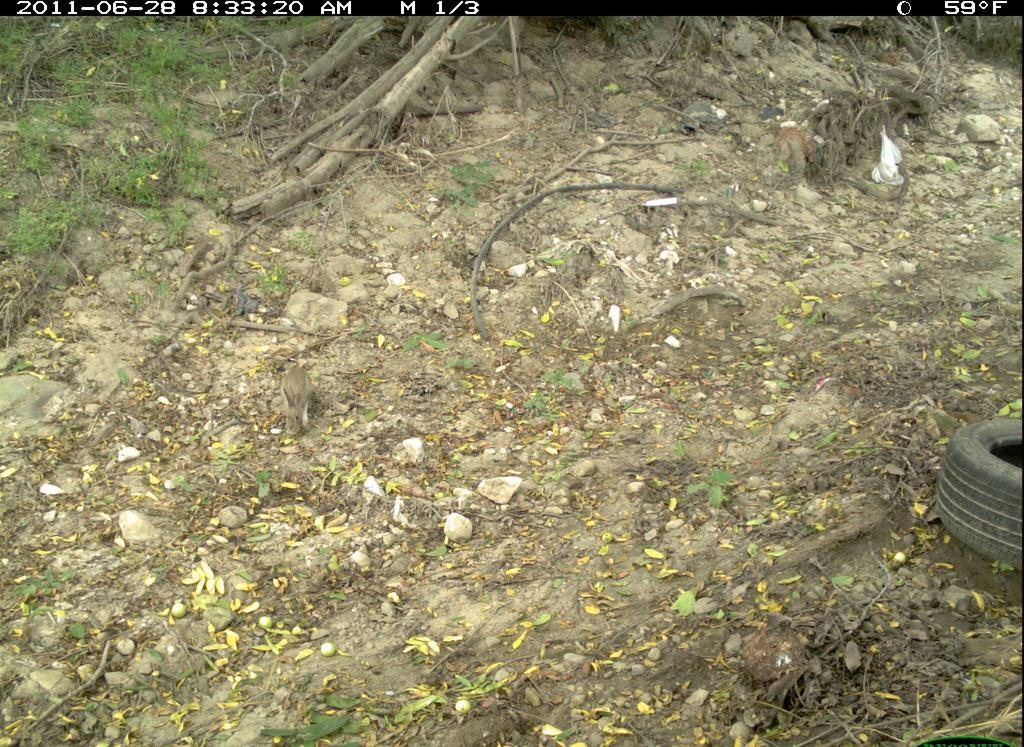rabbit: (271, 360, 322, 440)
